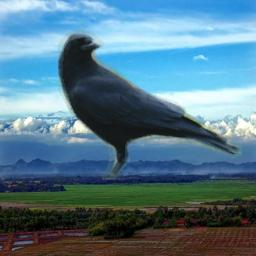Crow: (58, 29, 242, 179)
